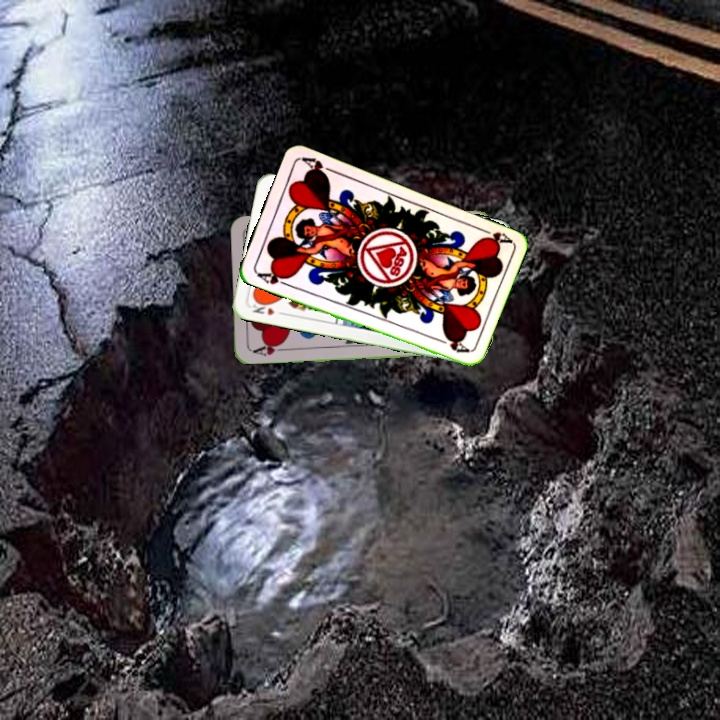HA: (474, 223, 513, 249), (252, 267, 293, 289), (249, 339, 289, 359)
HK: (249, 296, 287, 318)
